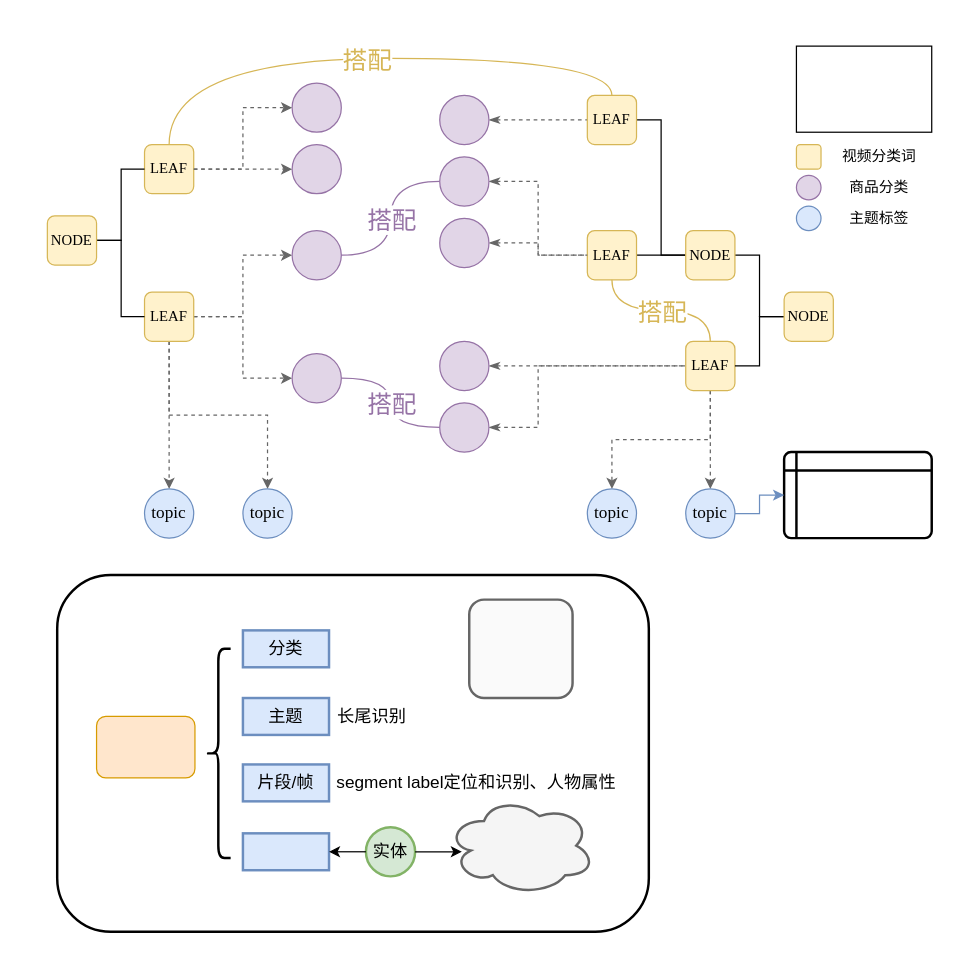
Some shapes in this 977 by 953 pixel diagram are drawn without their labels. Each missing label, with the centre of its shape:
"1.连续性 2.发散性 3.打散" belongs at pixel 863 88.
"KG" belongs at pixel 520 845.
"video1 video2 video3" belongs at pixel 857 494.
"包含关系 搭配关系 相似关系 关联关系" belongs at pixel 520 648.
"原子标签" belongs at pixel 285 851.
"标签" belongs at pixel 145 746.
